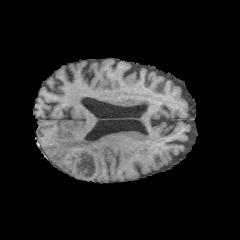glioma: (43, 135, 120, 179)
